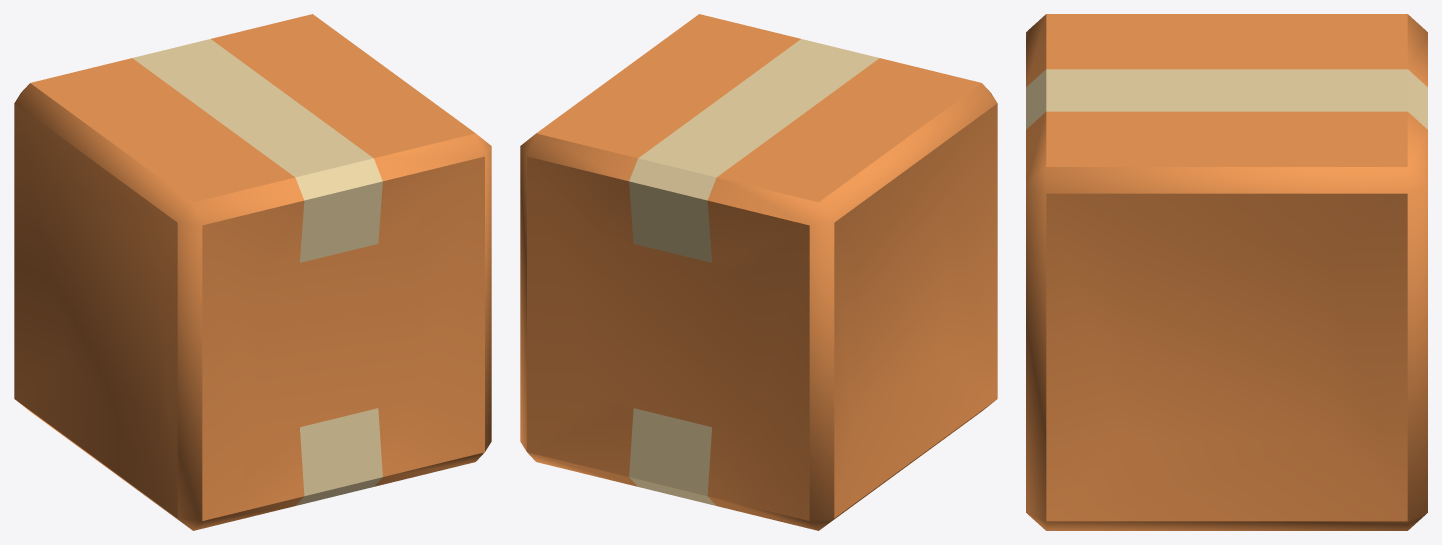
File: boxClosed-transformed.glb
The picture shows the model from 3 angles, left to right: view 1: azimuth 30°, elevation 25°; view 2: azimuth 150°, elevation 25°; view 3: azimuth 270°, elevation 25°; orthographic projection. The views are drawn at different scales.
Visible parts, largest first — view 1: box; view 2: box; view 3: box.
Boxes of the visible parts, x1,y1,x2,y2 form: box: (14,14,491,530); box: (520,14,997,530); box: (1026,14,1427,530).
Bounding box in the file's own units: 0.25 × 0.25 × 0.25.
